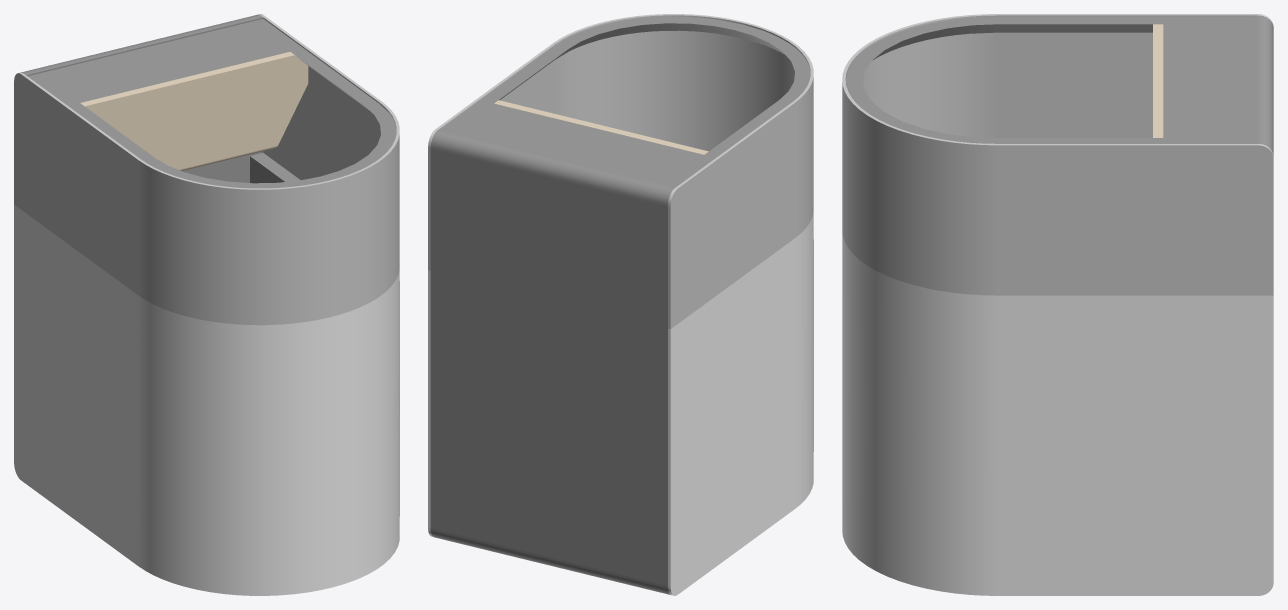
Rendered from pod.gltf.
3 views of the same model, side by side, from view 1: azimuth 30°, elevation 25°; view 2: azimuth 150°, elevation 25°; view 3: azimuth 270°, elevation 25° (orthographic). The views are drawn at different scales.
Parts seen in each view (by area): view 1: Body190, Body195, Body169, Body1, desktop, Body196, Body198; view 2: Body1, Body190, Body195, Body169, Body198, desktop, Body196; view 3: Body190, Body169, Body195, Body1, Body185, Body196, desktop.
Part boxes in pixels (<box>): Body190: <box>14,204,399,595</box>; Body195: <box>23,75,329,325</box>; Body169: <box>263,17,399,316</box>; Body1: <box>21,14,396,188</box>; desktop: <box>185,52,308,169</box>; Body196: <box>80,77,189,170</box>; Body198: <box>14,72,25,210</box>; Body1: <box>430,16,810,594</box>; Body190: <box>428,213,813,595</box>; Body195: <box>678,22,813,321</box>; Body169: <box>437,14,743,151</box>; Body198: <box>668,186,679,329</box>; desktop: <box>494,100,603,128</box>; Body196: <box>599,126,708,154</box>; Body190: <box>842,233,1273,595</box>; Body169: <box>842,79,1252,295</box>; Body195: <box>842,14,1252,137</box>; Body1: <box>845,15,1273,154</box>; Body185: <box>1253,144,1273,295</box>; Body196: <box>1153,24,1163,81</box>; desktop: <box>1153,81,1163,137</box>.
Bounding box in the file's own units: 2.29 × 3.66 × 3.17.
